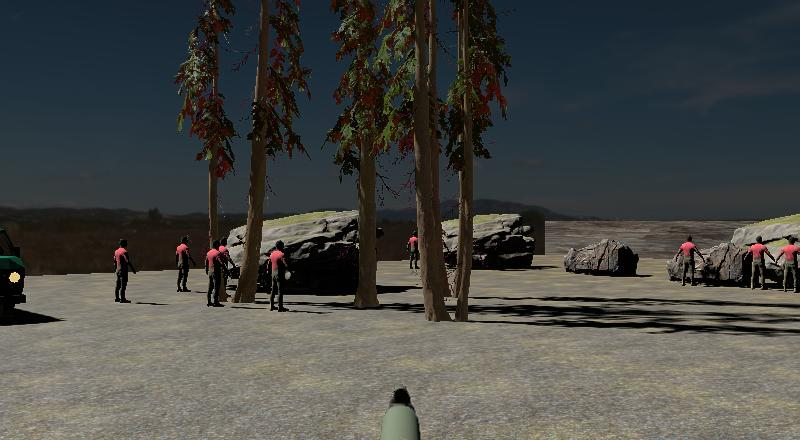Human: (264, 240, 291, 313), (743, 235, 776, 291), (743, 236, 776, 291), (205, 236, 228, 308), (675, 234, 705, 288), (113, 236, 136, 303), (776, 236, 800, 294), (175, 234, 195, 294), (405, 228, 423, 271)
car: (0, 221, 27, 324)
